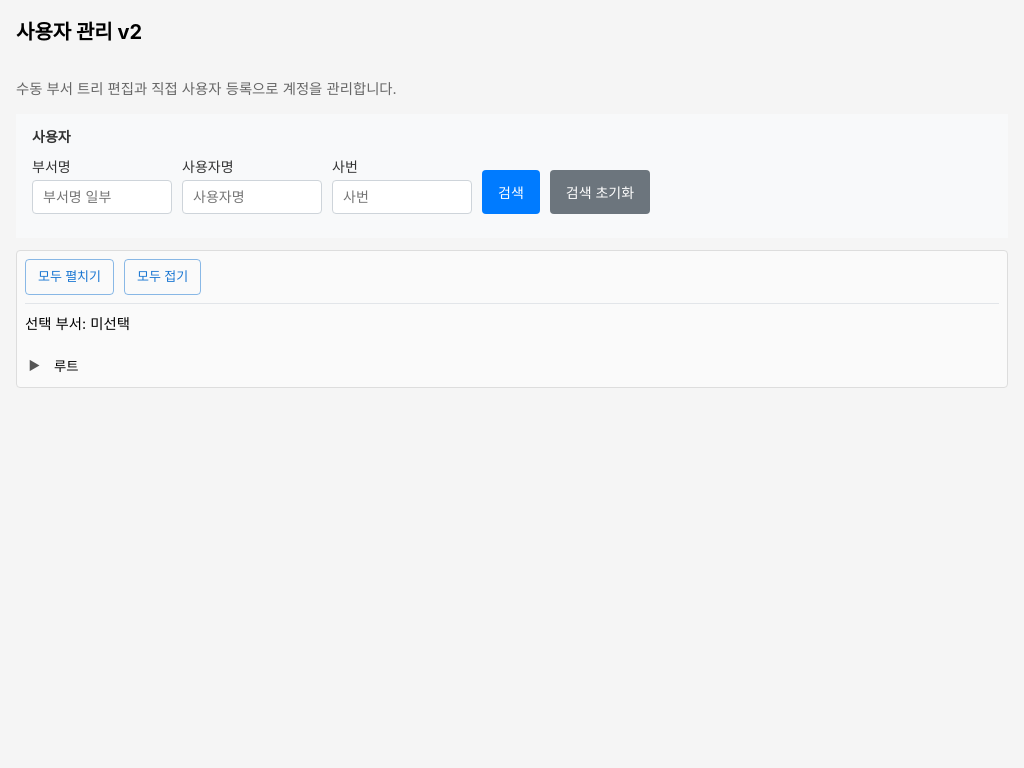
UserManagement › req 20260408 grid search: TC-06 multiple branches › expands ancestors so matches in separate branches are both visible
Check: the button "루트" is shown, box [47,353,85,379]
In the field named "사용자명 필터": (252,197) [182,180,322,214], type "공통"
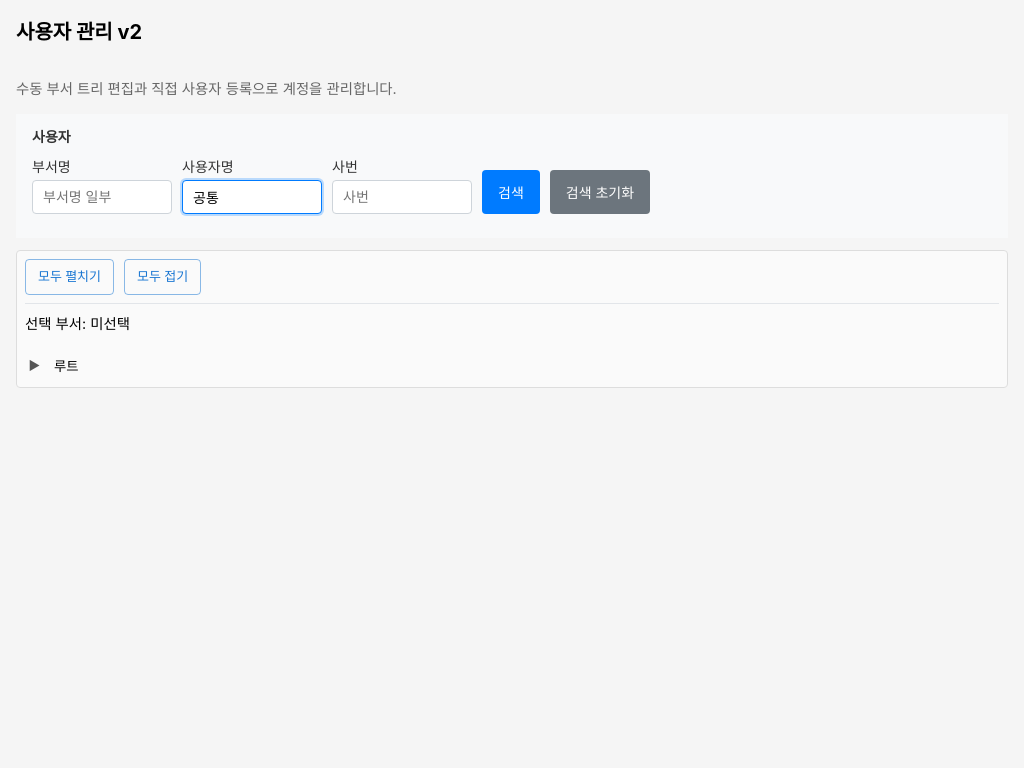
Click the button "검색": (511,192) [482,170,540,214]
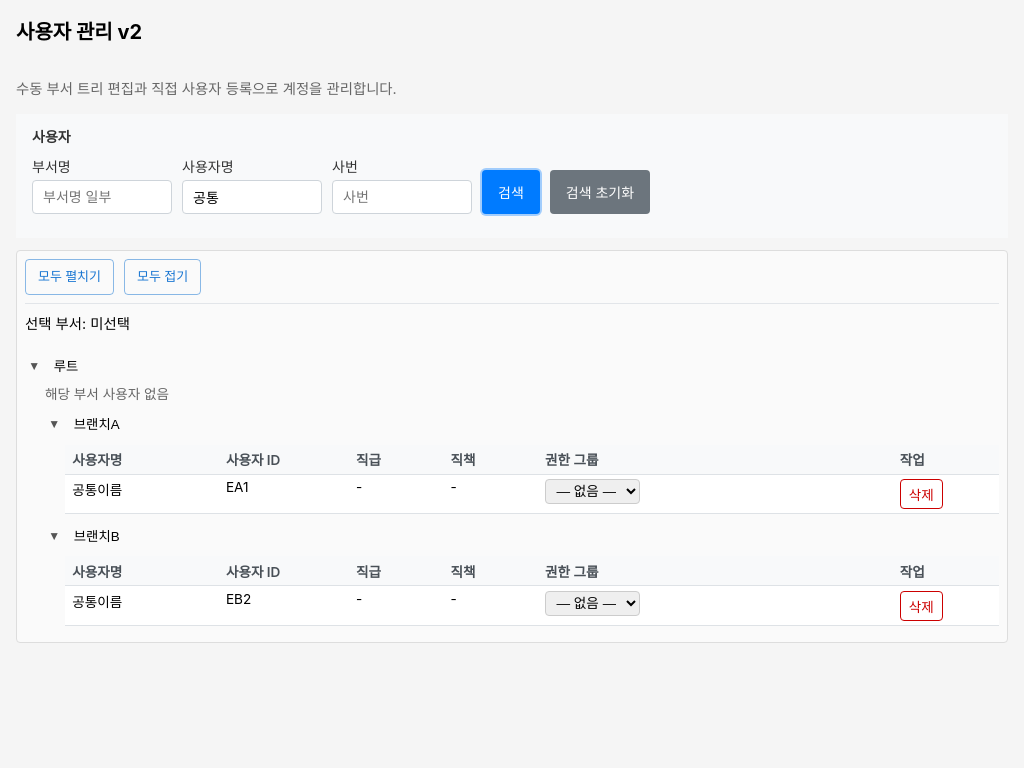
Check: the button "브랜치A" is shown, box [67,411,126,437]
Check: the button "브랜치B" is shown, box [67,522,126,548]
Check: the text "공통이름" is shown 2 times, box [65,474,219,514]; [65,586,219,626]
